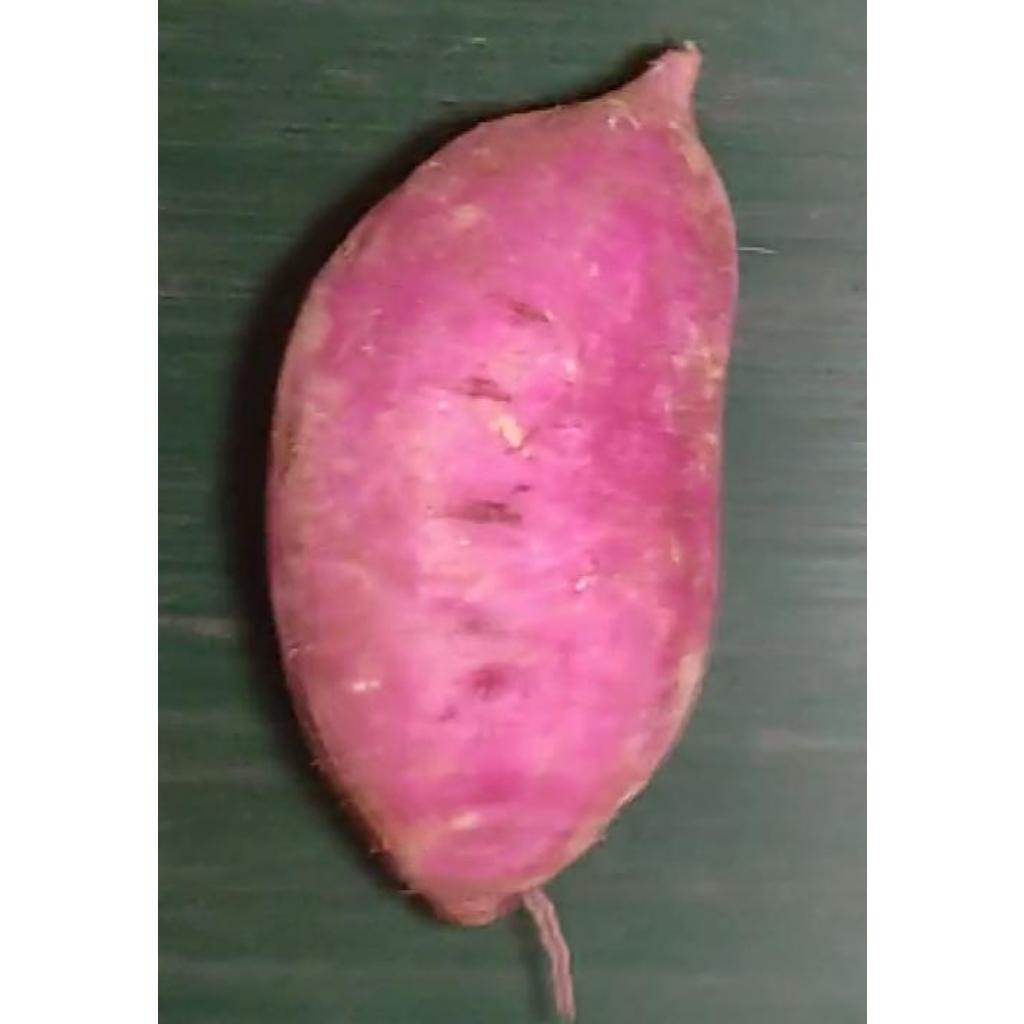Sweet Potato: (266, 44, 739, 931)
